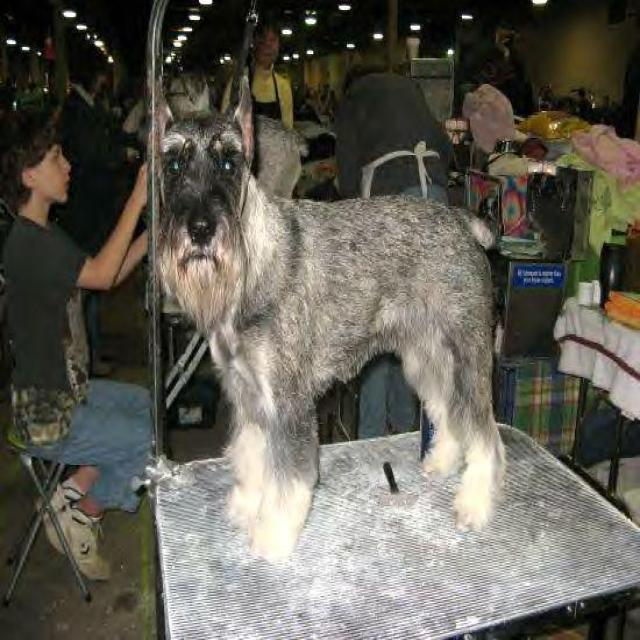standard_schnauzer: (143, 72, 509, 568)
